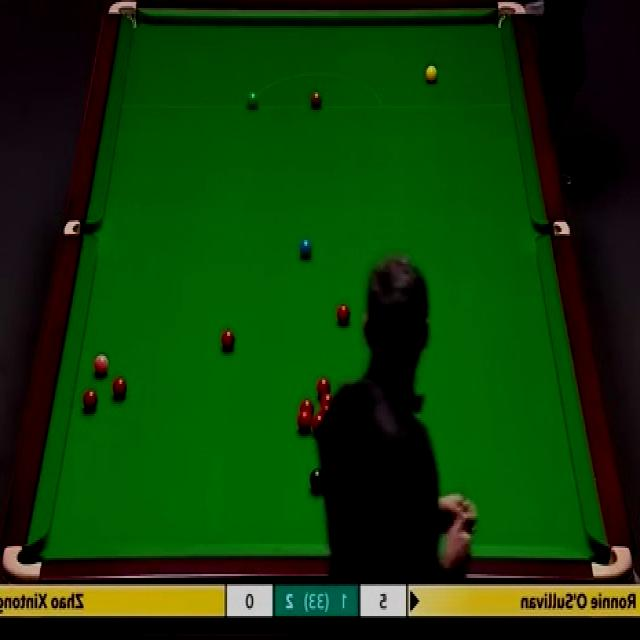black-ball: (309, 468, 326, 490)
blue-ball: (298, 238, 312, 259)
brown-ball: (310, 90, 324, 110)
green-ball: (244, 91, 260, 110)
pink-ball: (92, 354, 110, 377)
red-ball: (82, 388, 99, 411), (112, 374, 127, 400), (220, 328, 237, 350), (336, 302, 351, 326), (297, 409, 311, 433), (317, 376, 331, 398), (312, 414, 326, 436), (320, 393, 336, 411), (298, 397, 314, 413)
yellow-ball: (426, 65, 438, 86)
